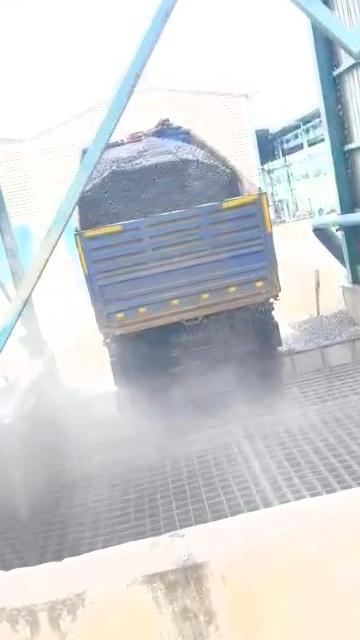gravel: (109, 302, 282, 388), (81, 134, 238, 228), (284, 310, 360, 349)
